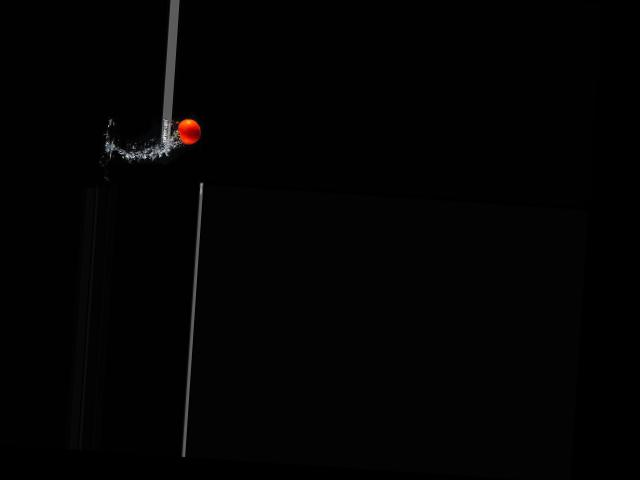tomato: (176, 118, 200, 144)
